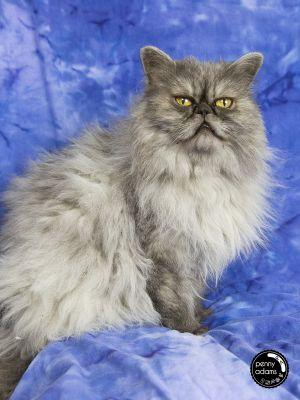persian: (134, 34, 269, 168)
